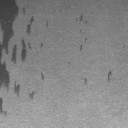red iron: (0, 0, 34, 98), (0, 98, 6, 114), (29, 91, 34, 100), (108, 71, 112, 82), (41, 72, 45, 80), (40, 42, 44, 48), (84, 77, 87, 84), (80, 14, 82, 22), (46, 20, 48, 27), (80, 45, 82, 51)
